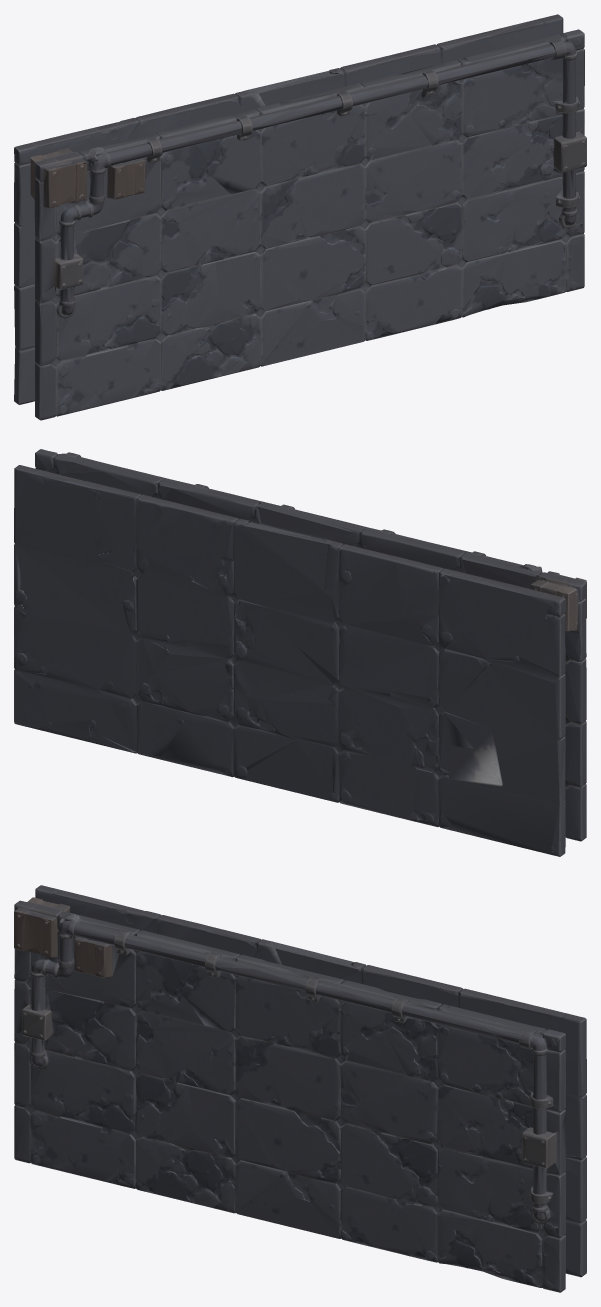
File: wall.fbx
The picture shows the model from 3 angles, top to bottom: view 1: azimuth 30°, elevation 25°; view 2: azimuth 150°, elevation 25°; view 3: azimuth 330°, elevation 25°; orthographic projection.
Visible parts, largest first — view 1: Mesh_0; view 2: Mesh_0; view 3: Mesh_0.
Part boxes in pixels (bbox=[...]): Mesh_0: bbox=[14, 14, 586, 420]; Mesh_0: bbox=[14, 449, 586, 856]; Mesh_0: bbox=[14, 885, 586, 1292].
Bounding box in the file's own units: 11048 × 5000 × 1266.
Materials: 1 (1 with a texture image).
